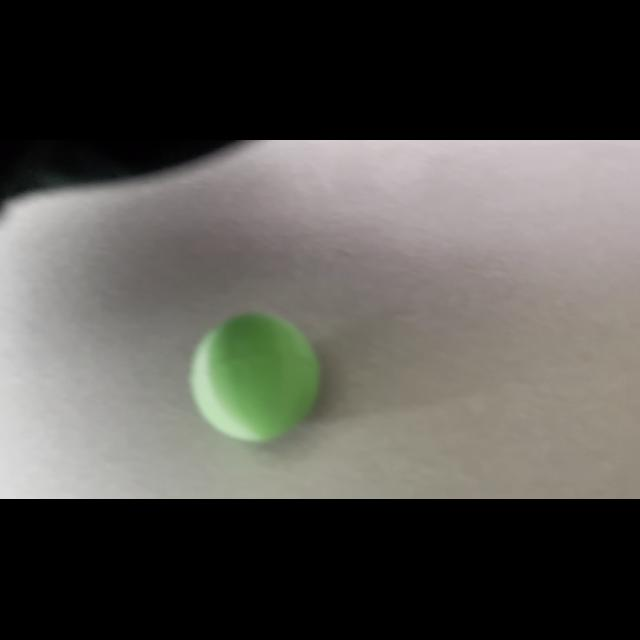objects: (183, 302, 327, 446)
